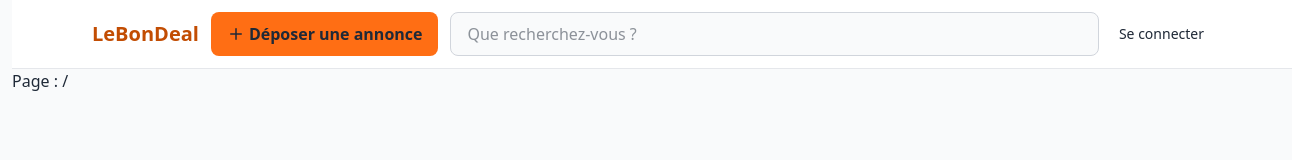
Test case: Header : recherche › envoie le texte saisi vers la recherche, encodé
Type "vélo électrique" into the search field named "Rechercher une annonce" at point(775, 34), box [450, 12, 1099, 56]
Then press Enter
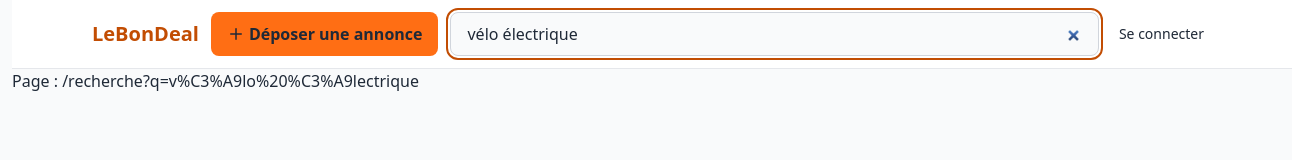
Check: the text "Page : /recherche?q=v%C3%A9lo%20%C3%A9lectrique" is shown, box [12, 70, 419, 92]
